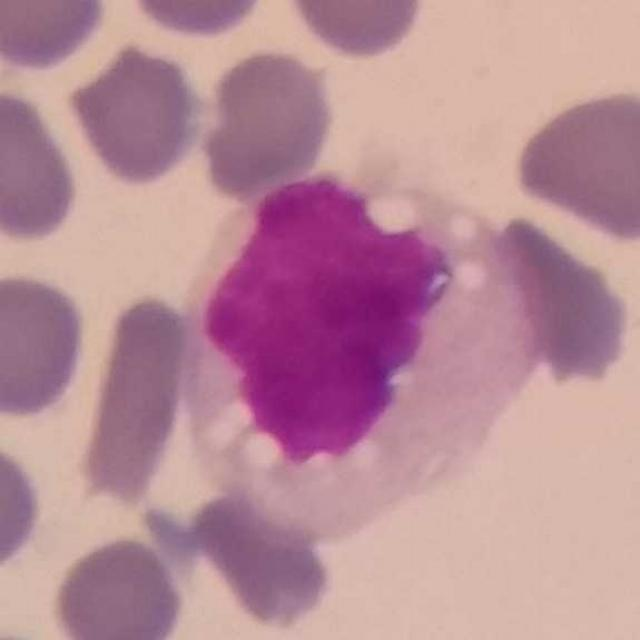mono: (183, 165, 550, 537)
